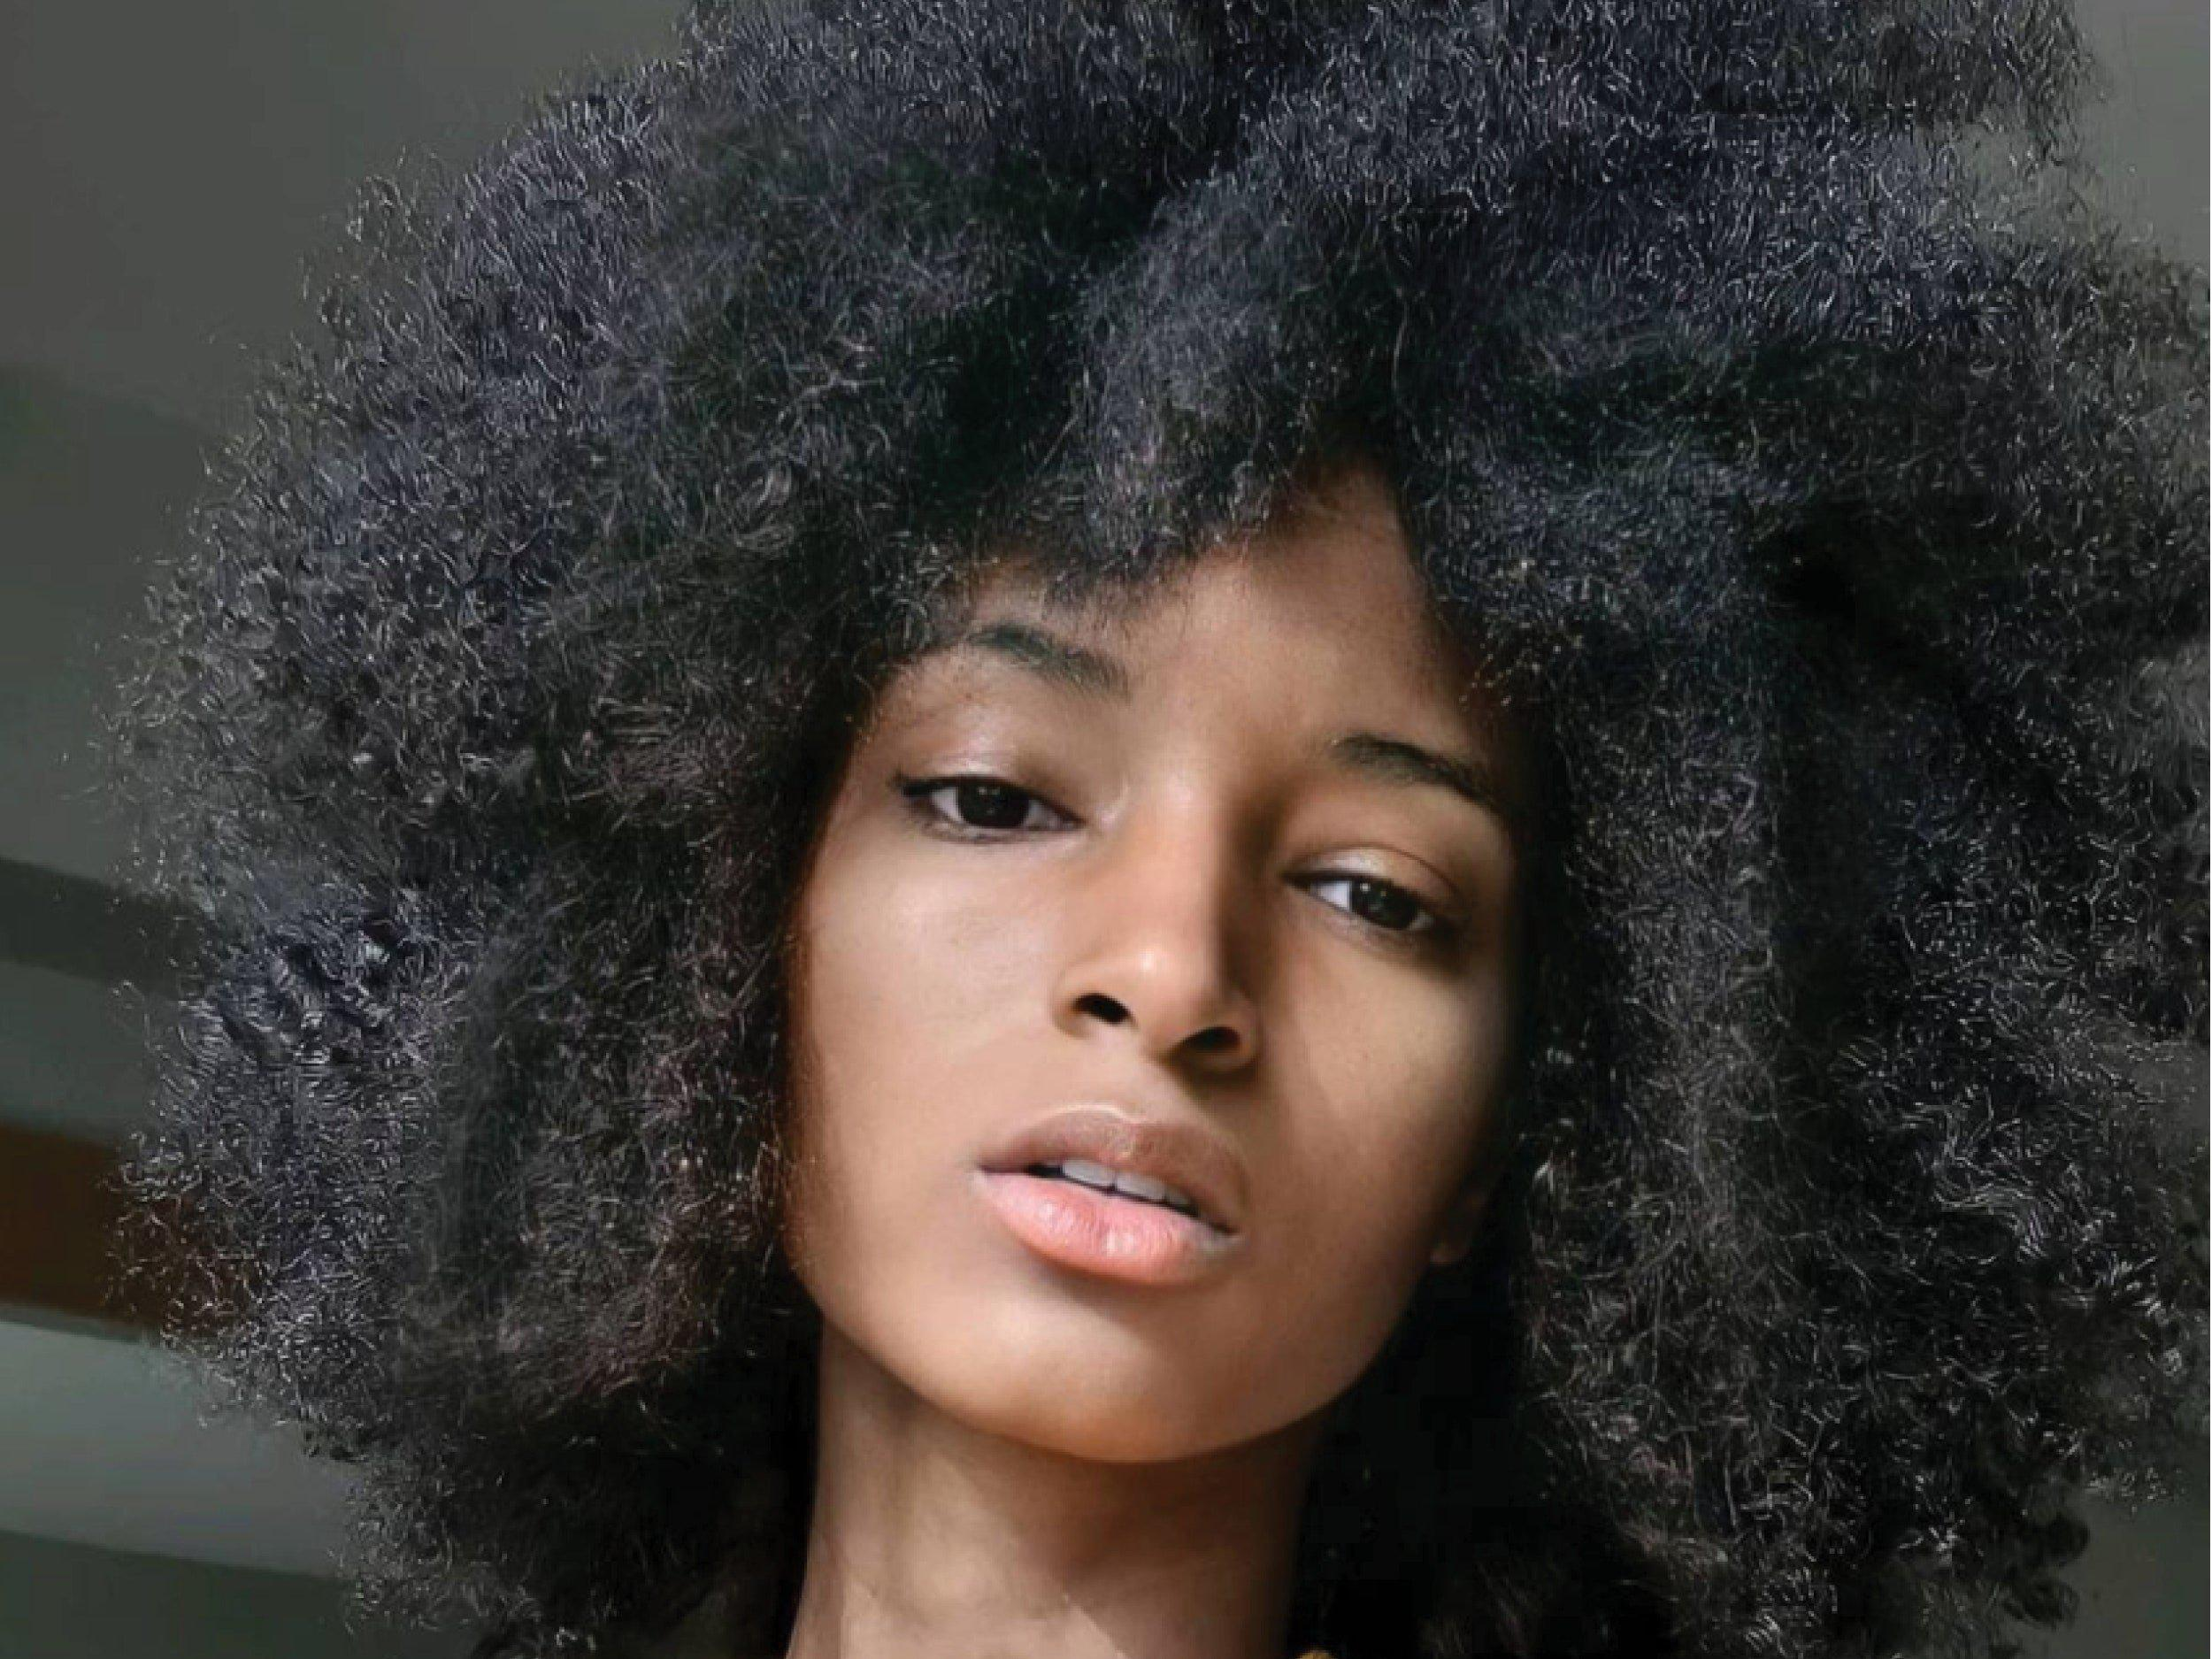Sober: (820, 549, 1494, 1398)
